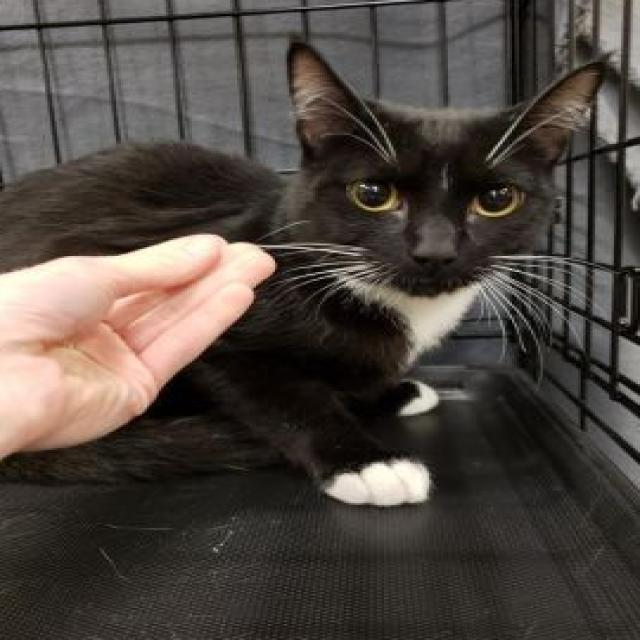Tuxedo: (0, 32, 609, 507)
